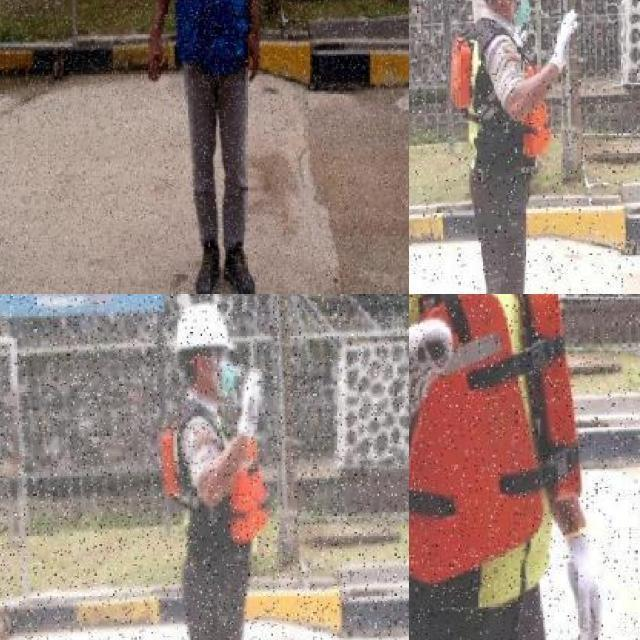apron: (547, 523, 615, 640), (549, 8, 589, 70), (240, 369, 266, 438)
